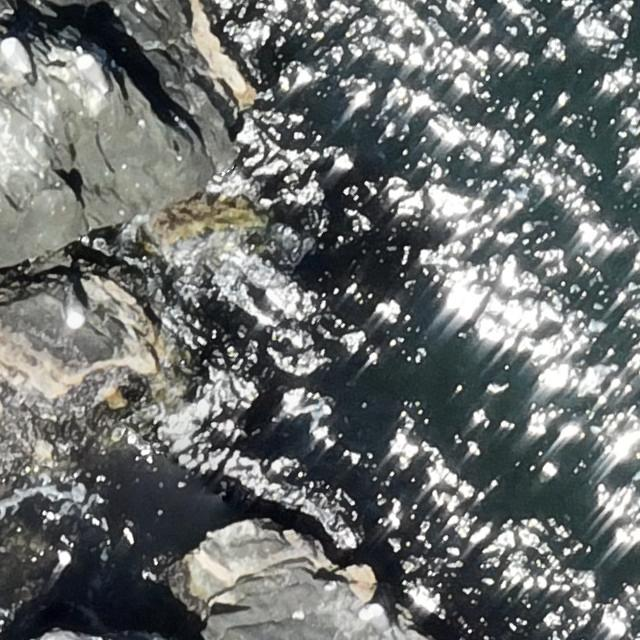umineko: (2, 35, 38, 82), (78, 54, 109, 91), (61, 288, 88, 328), (363, 602, 393, 636)
